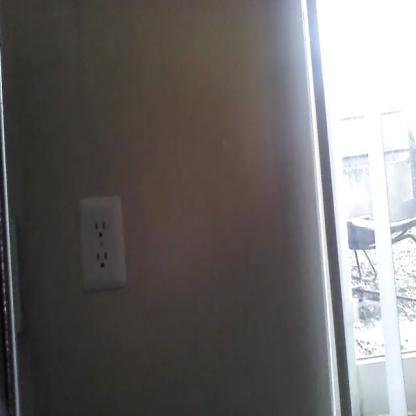OUTLET: (78, 195, 128, 291)
